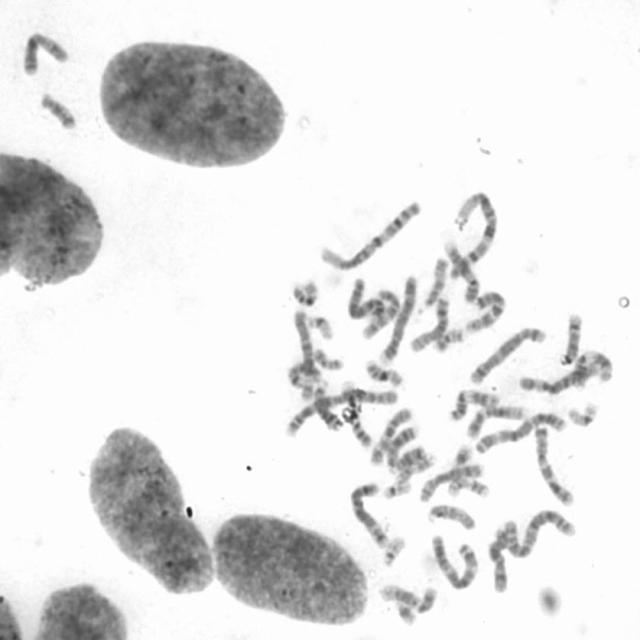A1: (315, 195, 423, 271), (445, 187, 500, 282)
A2: (280, 384, 400, 438), (500, 504, 579, 560)
A3: (472, 408, 568, 456), (429, 530, 481, 591)
B4: (375, 270, 419, 364), (344, 274, 386, 322)
B5: (466, 321, 549, 386), (346, 477, 392, 550)
C10: (365, 403, 413, 467), (357, 284, 402, 340)
C11: (445, 385, 502, 422), (570, 344, 614, 390)
C12: (464, 402, 528, 439), (376, 579, 440, 614)
C6: (514, 360, 598, 395), (289, 304, 317, 401)
C7: (530, 419, 576, 508), (462, 286, 508, 335)
C8: (415, 459, 485, 503), (407, 292, 451, 353)
C9: (438, 234, 480, 304), (336, 375, 374, 449)
D13: (383, 422, 421, 474), (309, 378, 345, 431)
D14: (555, 309, 584, 366), (284, 359, 324, 389)
D15: (418, 252, 450, 312), (423, 500, 478, 531)
E16: (362, 355, 405, 388), (288, 274, 321, 308)
E17: (392, 448, 438, 484), (444, 472, 492, 500)
E18: (36, 87, 78, 131), (392, 441, 428, 474)
F19: (564, 396, 601, 429), (302, 310, 336, 341)
F20: (430, 322, 466, 353), (310, 344, 345, 371)
G21: (392, 597, 419, 626), (450, 440, 474, 469)
G22: (378, 531, 408, 568), (379, 477, 414, 500)
X: (18, 26, 71, 77), (485, 523, 512, 594)
